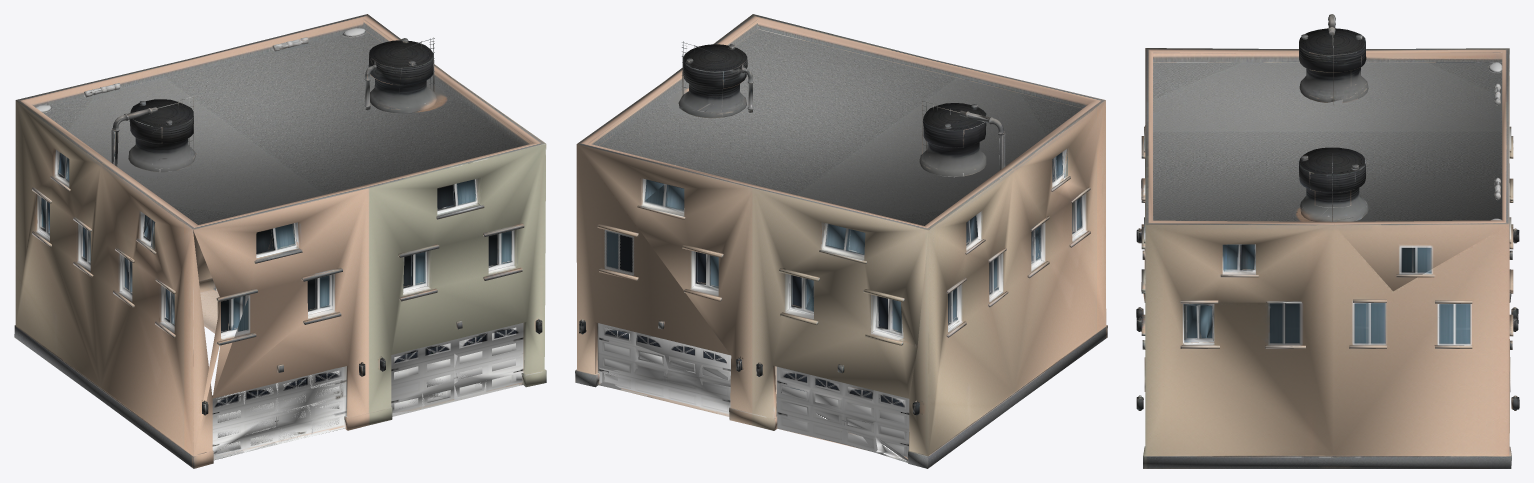
File: duplex.glb
The picture shows the model from 3 angles, left to right: view 1: azimuth 30°, elevation 25°; view 2: azimuth 150°, elevation 25°; view 3: azimuth 270°, elevation 25°; orthographic projection. The views are drawn at different scales.
Bounding box in the file's own units: 0.9556 × 0.728 × 0.8687.
Materials: 1 (1 with a texture image).
